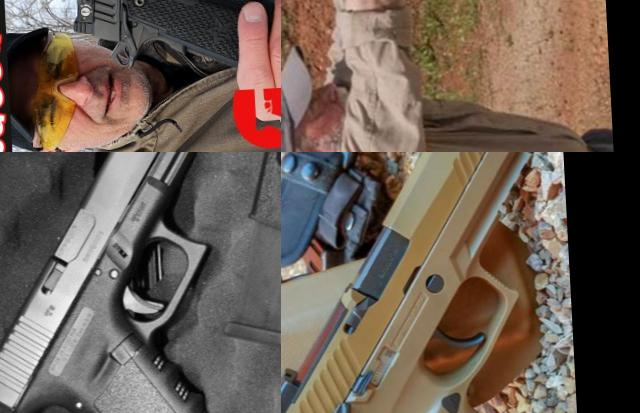handgun: (281, 152, 566, 413), (0, 152, 247, 413), (38, 0, 280, 142), (293, 0, 353, 41)
